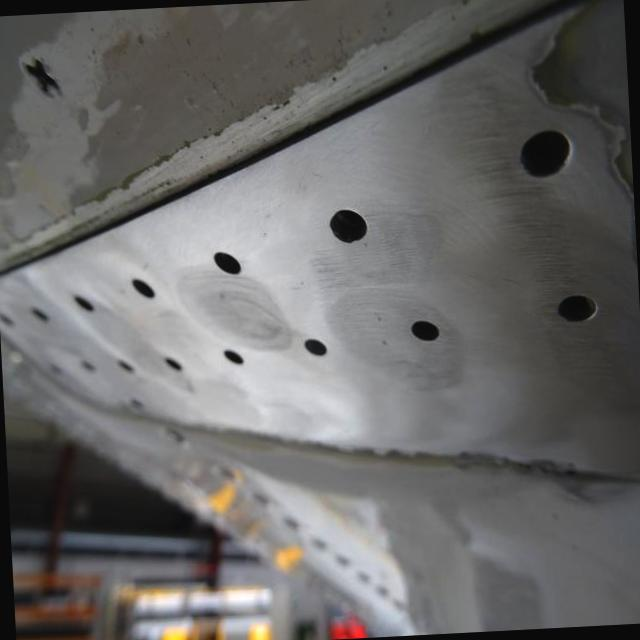Missing Fastener: (517, 123, 578, 189), (320, 199, 382, 253), (549, 288, 607, 333), (404, 310, 449, 350), (209, 237, 243, 286), (126, 266, 162, 304), (297, 334, 334, 367), (109, 350, 139, 381), (163, 343, 185, 382), (72, 288, 98, 319), (222, 344, 246, 369), (33, 304, 51, 328)
